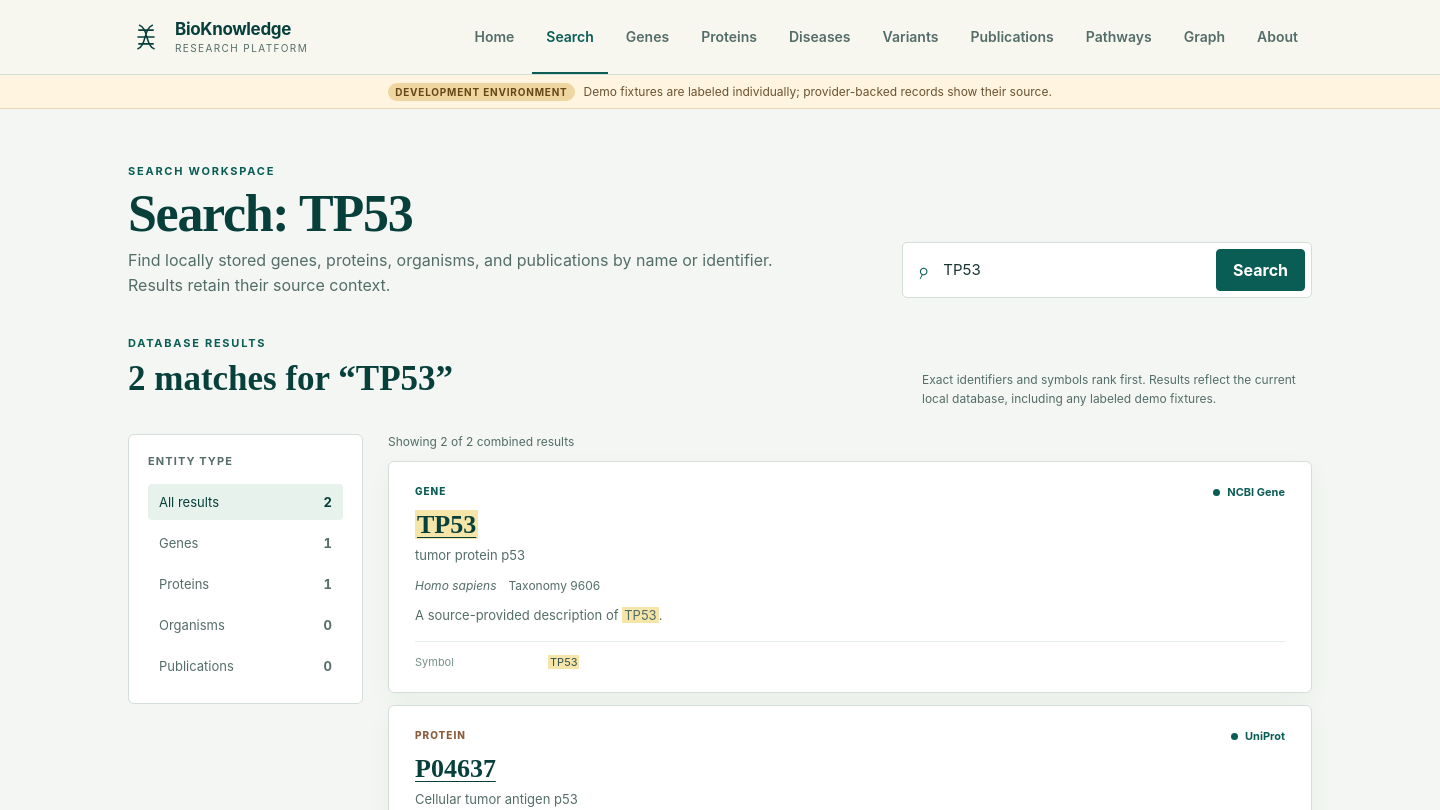
Test: filters search categories with a shareable URL
Expected: the heading "2 matches for “TP53”" is shown, [128,360,453,398]
Step 1. Click the button "Proteins 1" → (246, 584), box [148,566,343,602]
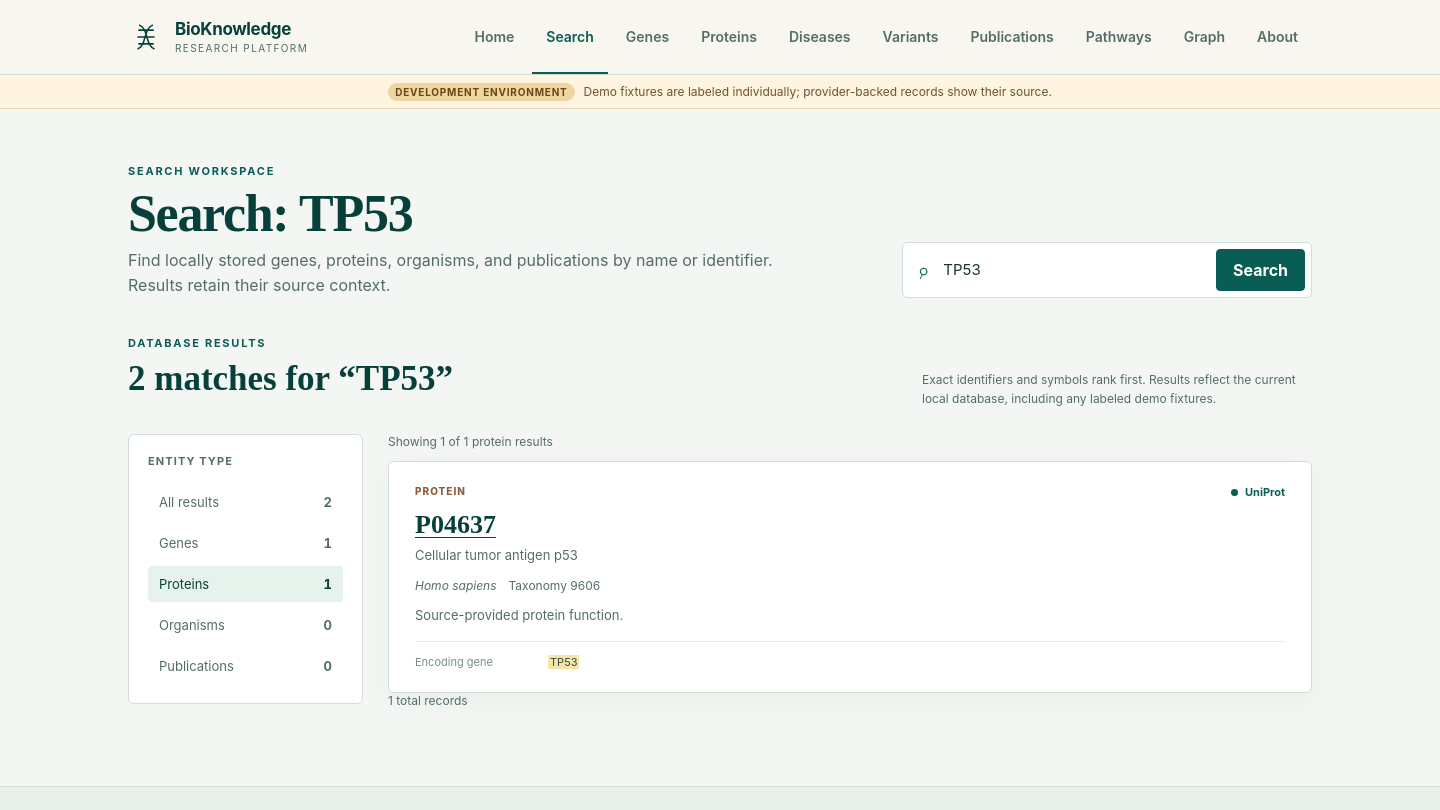
Expected: the text "Showing 1 of 1 protein results" is shown, [388,434,553,450]
